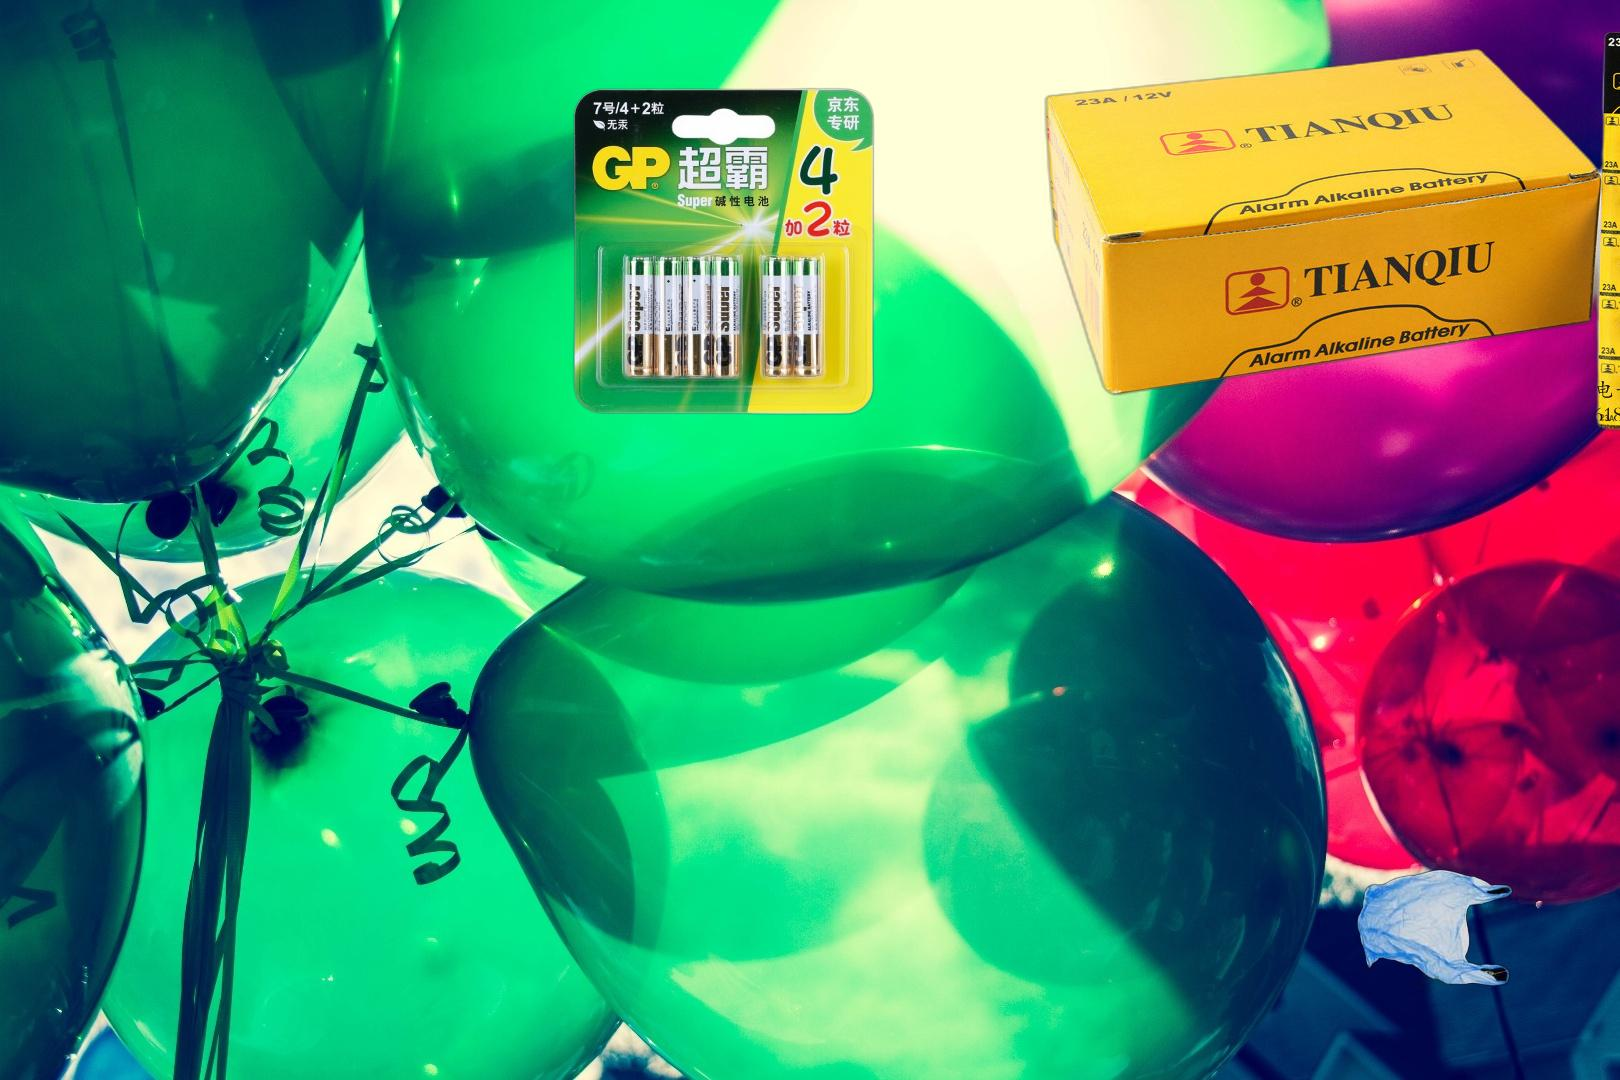battery: (1039, 27, 1620, 438), (572, 87, 875, 416)
plastic-bag: (1354, 866, 1519, 992)
